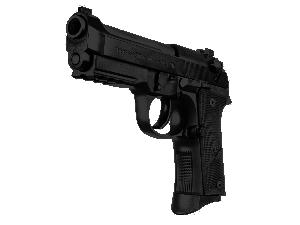handgun: (60, 2, 234, 217)
